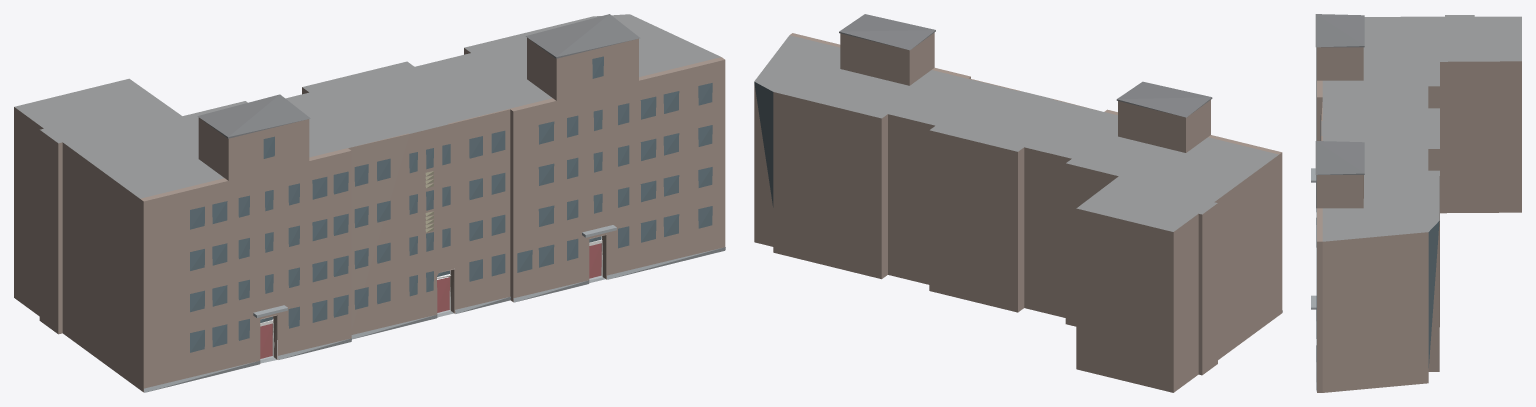
Rendered from chunk-face-luthuli-22-32.lod2.glb.
The picture shows the model from 3 angles, left to right: view 1: azimuth 30°, elevation 25°; view 2: azimuth 150°, elevation 25°; view 3: azimuth 270°, elevation 25°; orthographic projection. The views are drawn at different scales.
Visible parts, largest first — view 1: lod2; view 2: lod2; view 3: lod2.
Boxes of the visible parts, x1=… form: lod2: x1=14, y1=14, x2=725, y2=392; lod2: x1=754, y1=14, x2=1282, y2=392; lod2: x1=1311, y1=14, x2=1521, y2=392.
Bounding box in the file's own units: 45.75 × 17.56 × 18.01.
